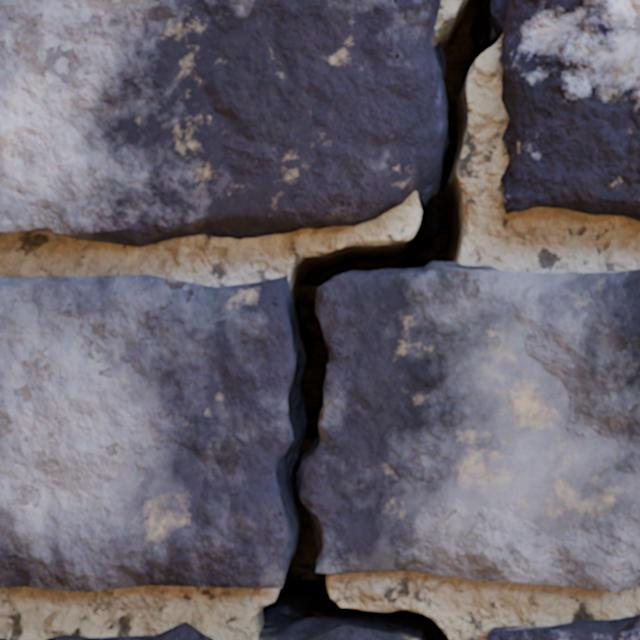broken_brick: (300, 262, 639, 592), (0, 275, 294, 592)
crack: (0, 0, 639, 639), (487, 615, 639, 639), (47, 622, 212, 639), (4, 585, 30, 587), (362, 562, 374, 563)
